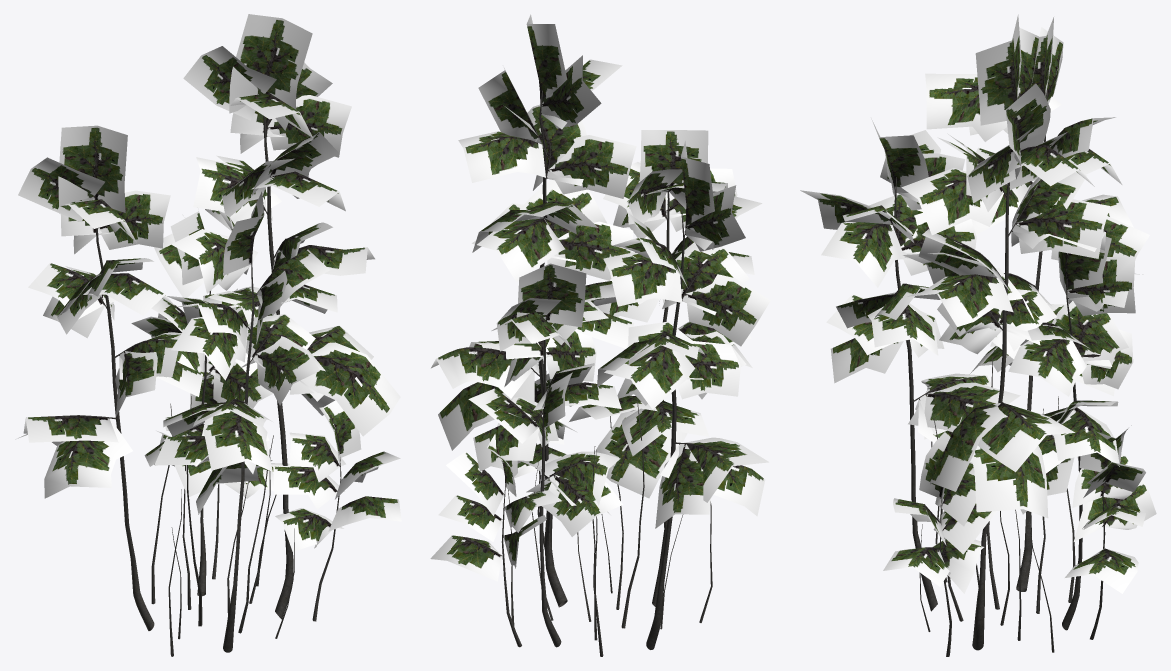
The model's file is ForestTree04Group_Optimized.fbx.
3 renders of one model, left to right at view 1: azimuth 30°, elevation 25°; view 2: azimuth 150°, elevation 25°; view 3: azimuth 270°, elevation 25°, orthographic. The views are drawn at different scales.
Visible parts, largest first — view 1: ForestTree04GroupLOD0; view 2: ForestTree04GroupLOD0; view 3: ForestTree04GroupLOD0.
Part boxes in pixels (x1,y1,x2,y2): ForestTree04GroupLOD0: (15,14,401,656); ForestTree04GroupLOD0: (430,14,770,656); ForestTree04GroupLOD0: (800,14,1156,656).
Size of what is drawn, in the model's own units: 600 by 1002 by 516.
